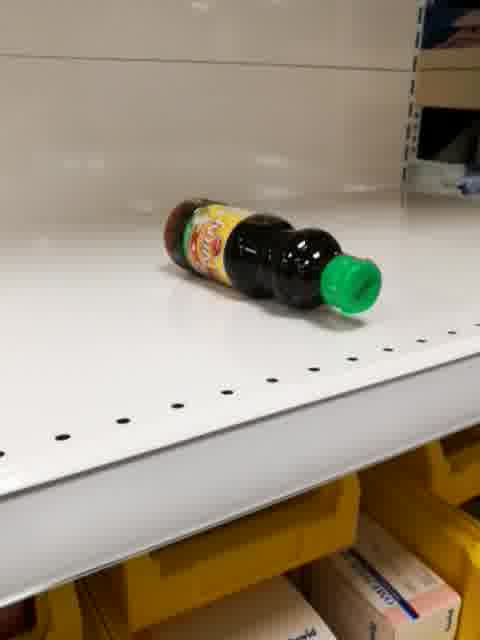cookingoil: (159, 193, 383, 317)
